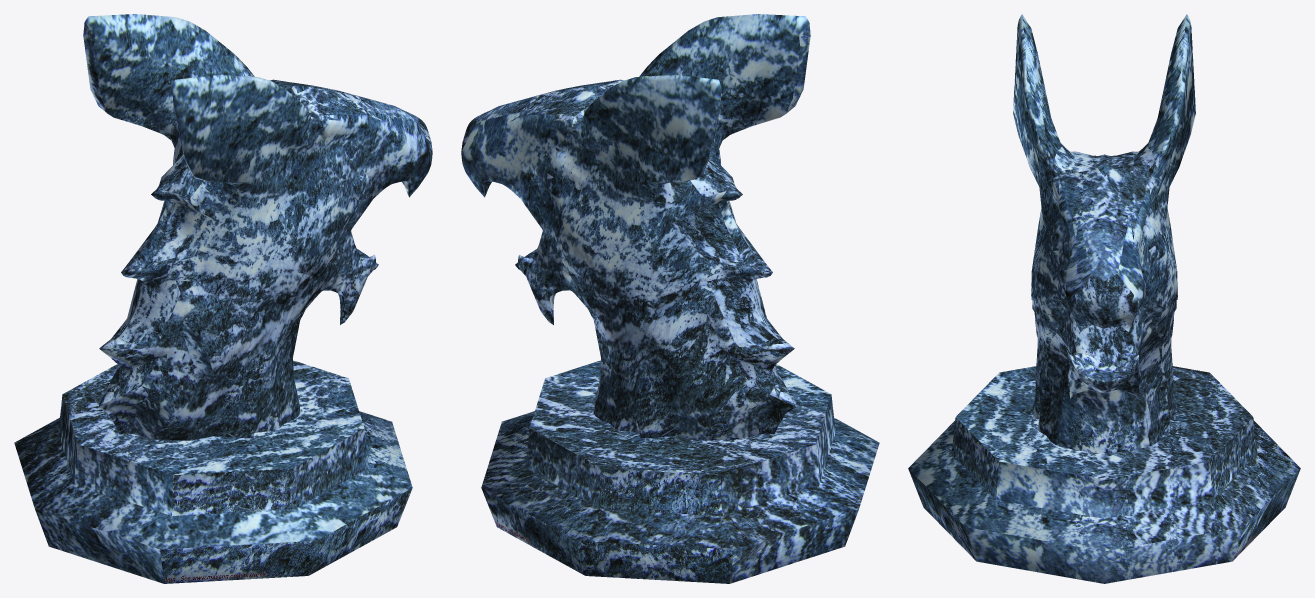
Rendered from Knight.FBX.
3 views of the same model, side by side, from view 1: azimuth 30°, elevation 25°; view 2: azimuth 150°, elevation 25°; view 3: azimuth 270°, elevation 25° (orthographic). The views are drawn at different scales.
Visible parts, largest first — view 1: Knight; view 2: Knight; view 3: Knight.
Boxes of the visible parts, box(x1,y1,x2,y2) form: Knight: box(14, 14, 432, 583); Knight: box(461, 14, 879, 583); Knight: box(908, 14, 1300, 583).
Size of the model in its own units: 1917 by 2221 by 1736.
Materials: 1 (1 with a texture image).
